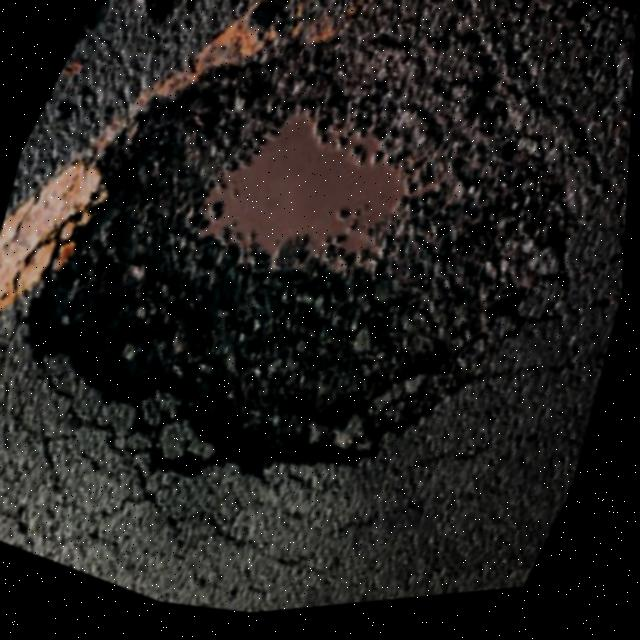Pothole: (0, 0, 625, 615)
